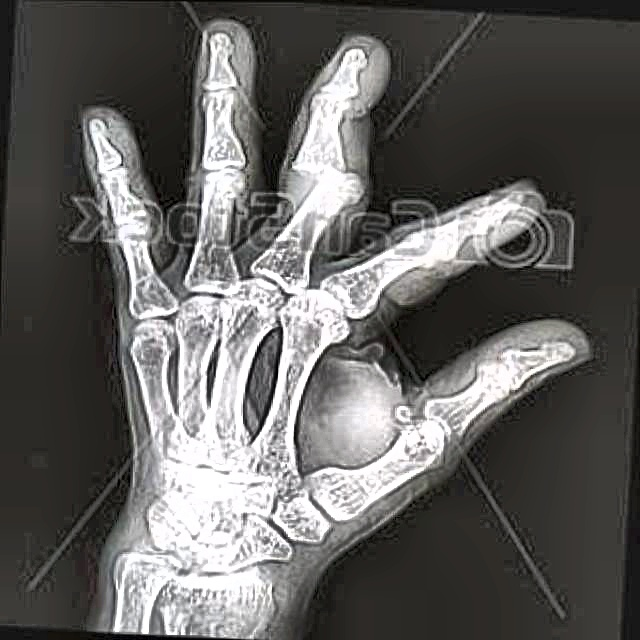Transverse: (281, 136, 368, 223)
